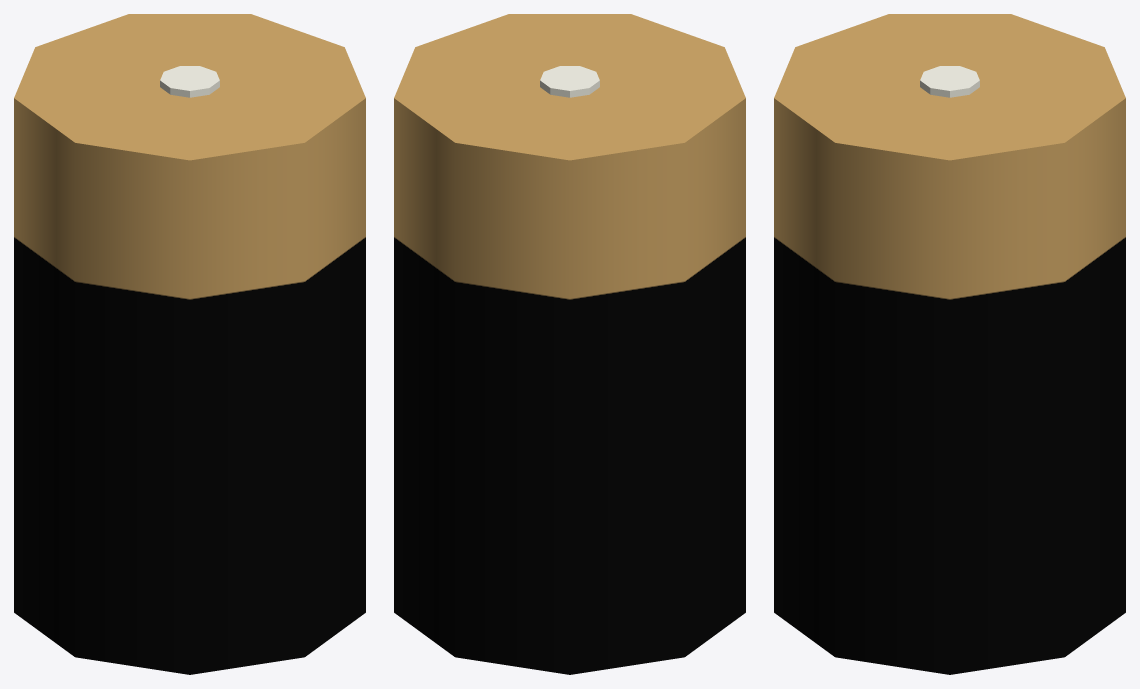
Rendered from Battery.FBX.
The picture shows the model from 3 angles, left to right: view 1: azimuth 30°, elevation 25°; view 2: azimuth 150°, elevation 25°; view 3: azimuth 270°, elevation 25°; orthographic projection.
Parts seen in each view (by area): view 1: Cylinder004; view 2: Cylinder004; view 3: Cylinder004.
Boxes of the visible parts, left/top/right/bottom form: Cylinder004: left=14, top=14, right=365, bottom=674; Cylinder004: left=394, top=14, right=745, bottom=674; Cylinder004: left=774, top=14, right=1125, bottom=674.
Bounding box in the file's own units: 19.4 × 32.6 × 19.7.
